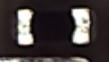COMP: (9, 3, 99, 50)
GAP: (17, 40, 89, 62)
